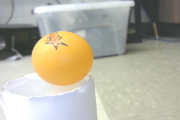PingPongBall: (32, 32, 93, 87)
